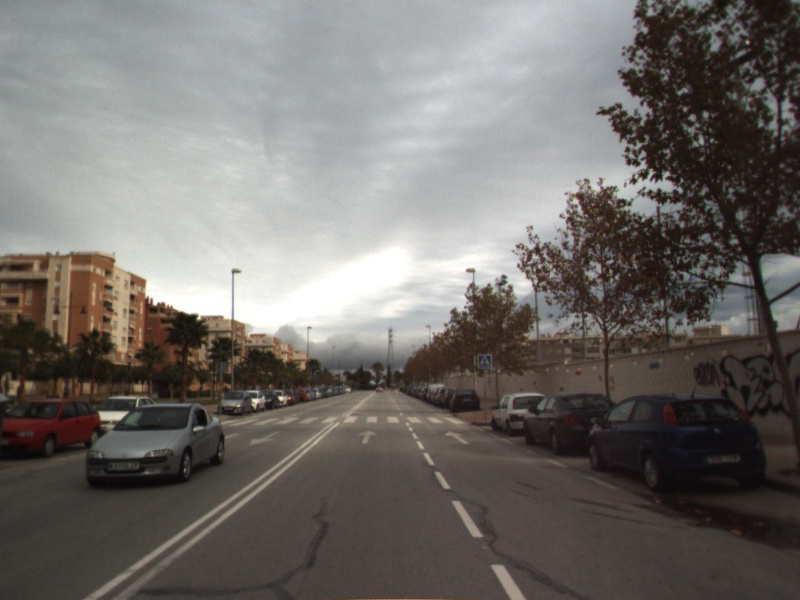STRAIGHT: (443, 429, 471, 446), (356, 428, 380, 446)
